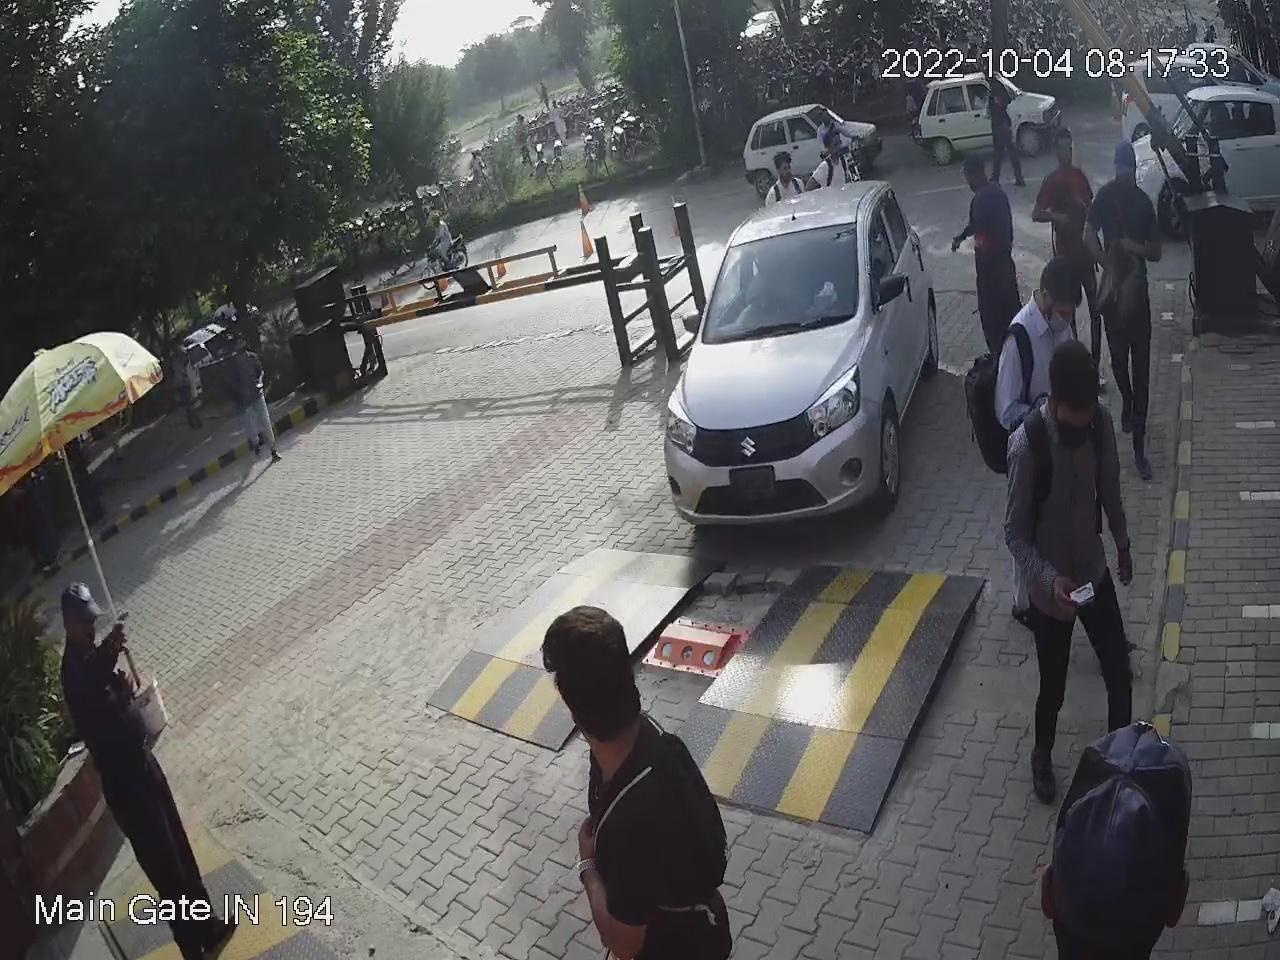windshield: (693, 223, 863, 350)
